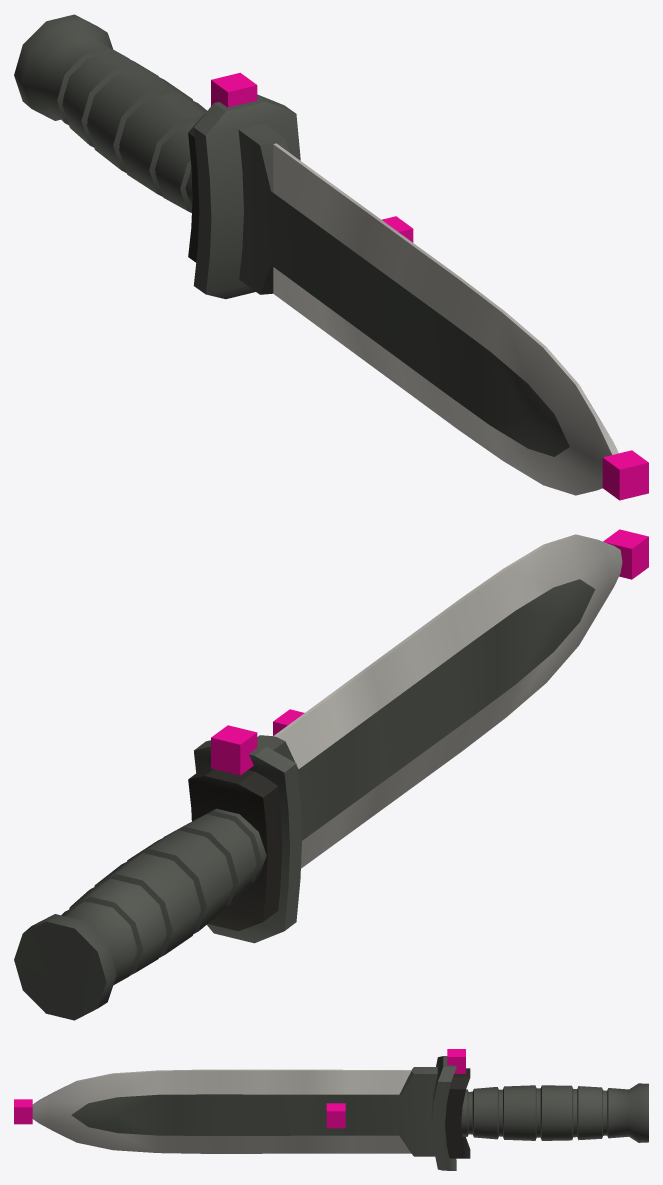
Rendered from knife.glb.
The picture shows the model from 3 angles, top to bottom: view 1: azimuth 30°, elevation 25°; view 2: azimuth 150°, elevation 25°; view 3: azimuth 270°, elevation 25°; orthographic projection. The views are drawn at different scales.
Visible parts, largest first — view 1: knife, DBG_Muzzle, DBG_Sight; view 2: knife, DBG_Sight, DBG_Muzzle; view 3: knife, DBG_ShellPort, DBG_Muzzle, DBG_Sight.
Part boxes in pixels (bbox=[...]): knife: bbox=[14, 14, 618, 495]; DBG_Muzzle: bbox=[602, 450, 648, 500]; DBG_Sight: bbox=[211, 72, 257, 107]; knife: bbox=[14, 534, 622, 1020]; DBG_Sight: bbox=[211, 725, 257, 775]; DBG_Muzzle: bbox=[603, 529, 648, 579]; knife: bbox=[32, 1056, 648, 1170]; DBG_ShellPort: bbox=[326, 1103, 345, 1128]; DBG_Muzzle: bbox=[14, 1099, 32, 1124]; DBG_Sight: bbox=[447, 1049, 465, 1073].
Size of the model in its own units: 0.0333 by 0.0595 by 0.3045.
Materials: 2 (1 with a texture image).
